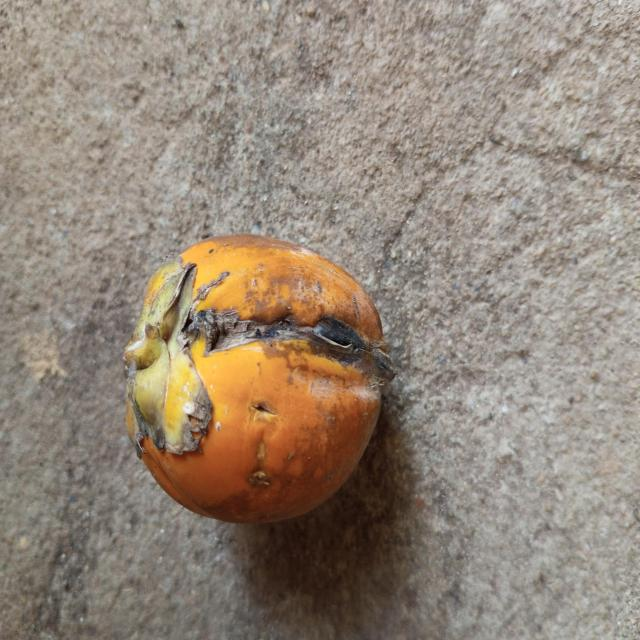damaged: (124, 235, 395, 522)
